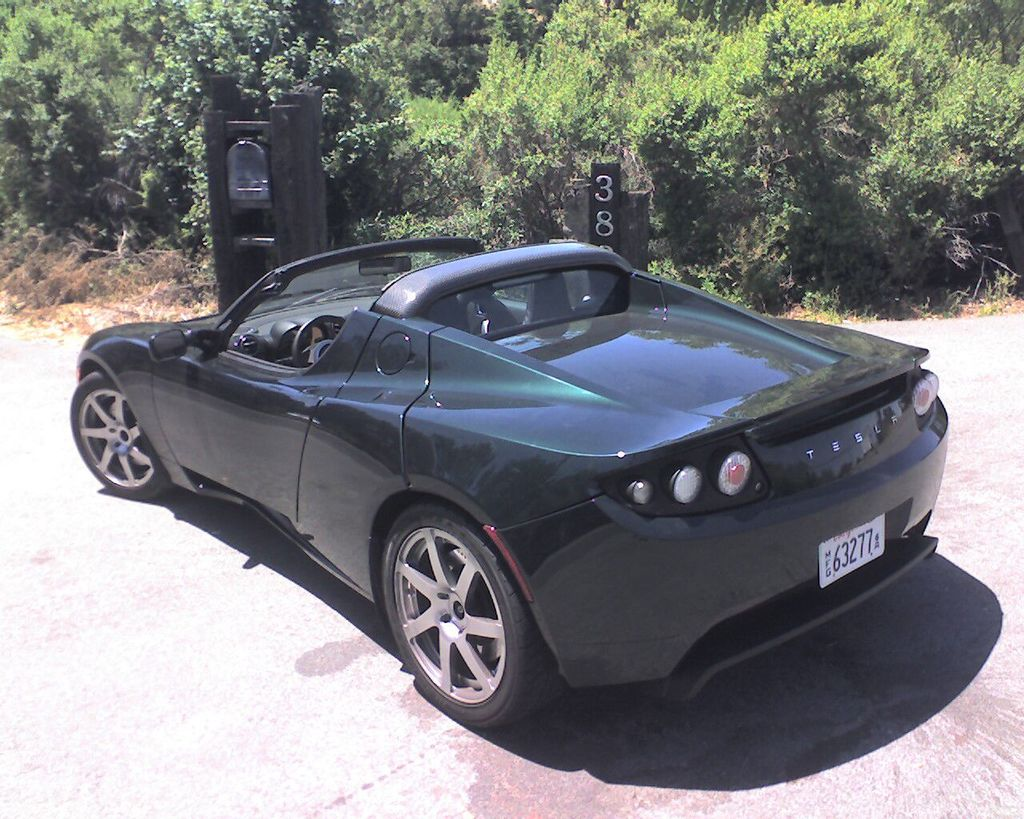Car: (81, 242, 963, 729)
